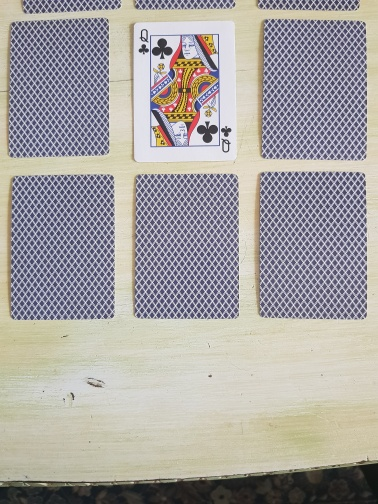queen: (132, 19, 238, 164)
